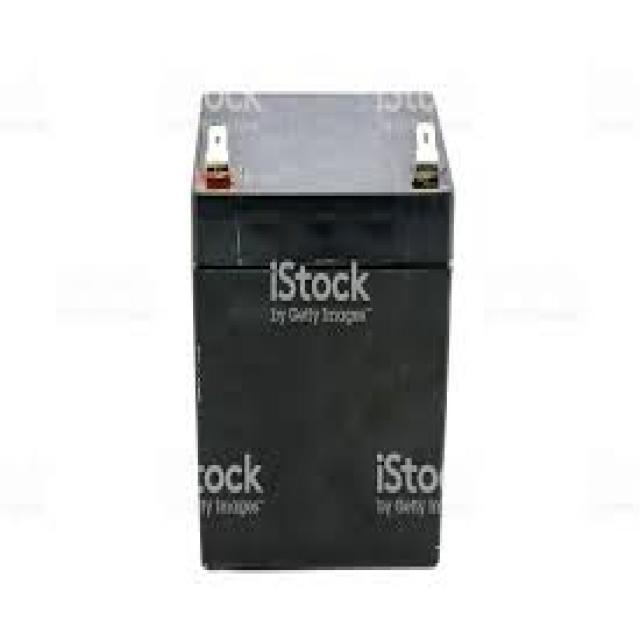non-organic waste: (185, 73, 452, 579)
